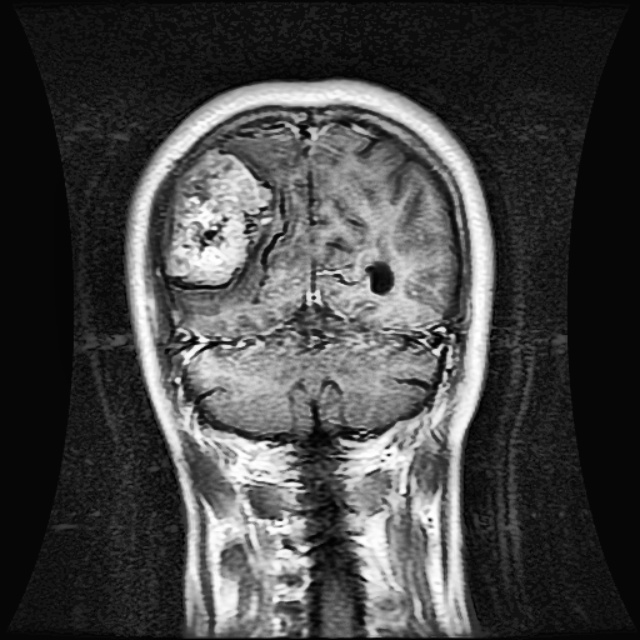Glioma: (162, 149, 274, 284)
